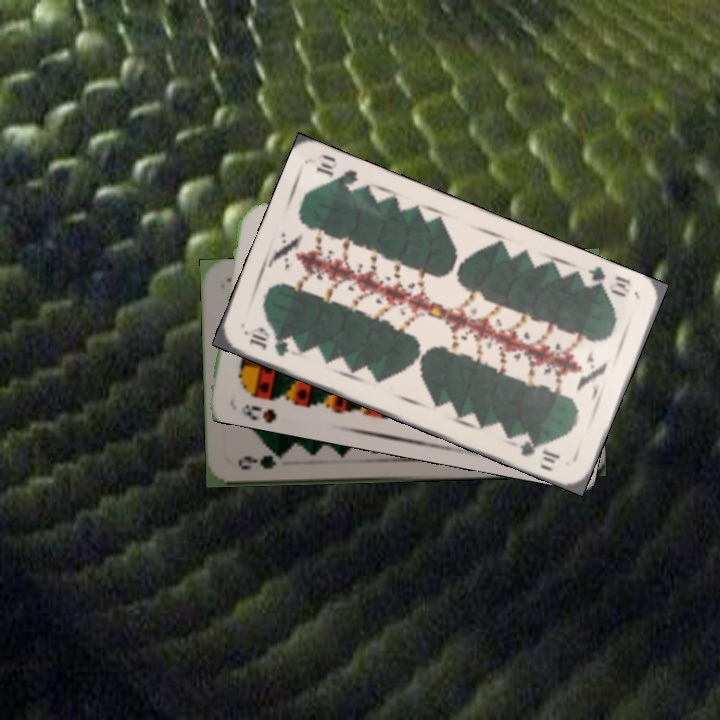G10: (578, 263, 635, 300), (245, 326, 291, 360)
G9: (234, 450, 288, 472)
S8: (237, 400, 280, 424)
